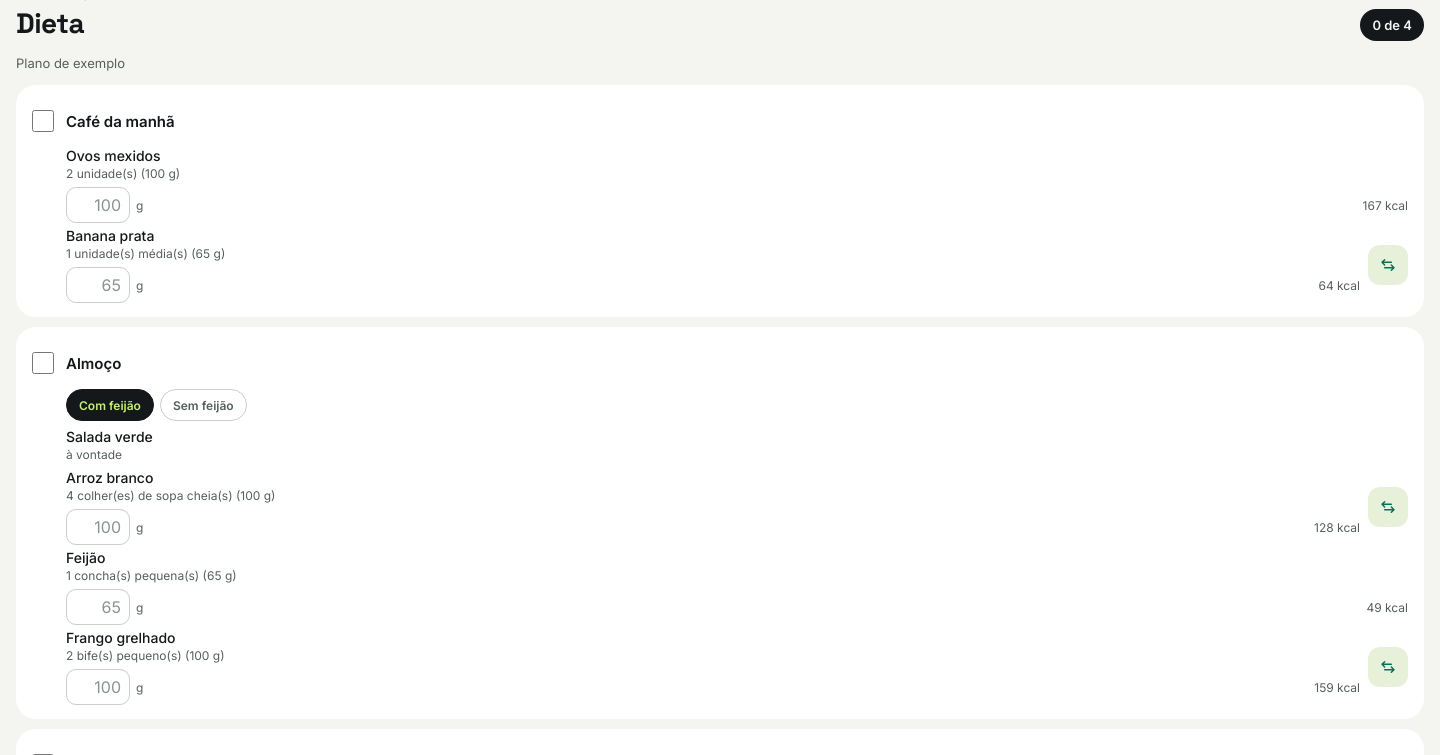
Test: Calorias do dia › soma a quantidade digitada e a refeição fora da dieta
Type "150" into the field named "Quanto comi de ovos mexidos, em g" at (98, 205), box [66,187,130,223]
(page scrolled)
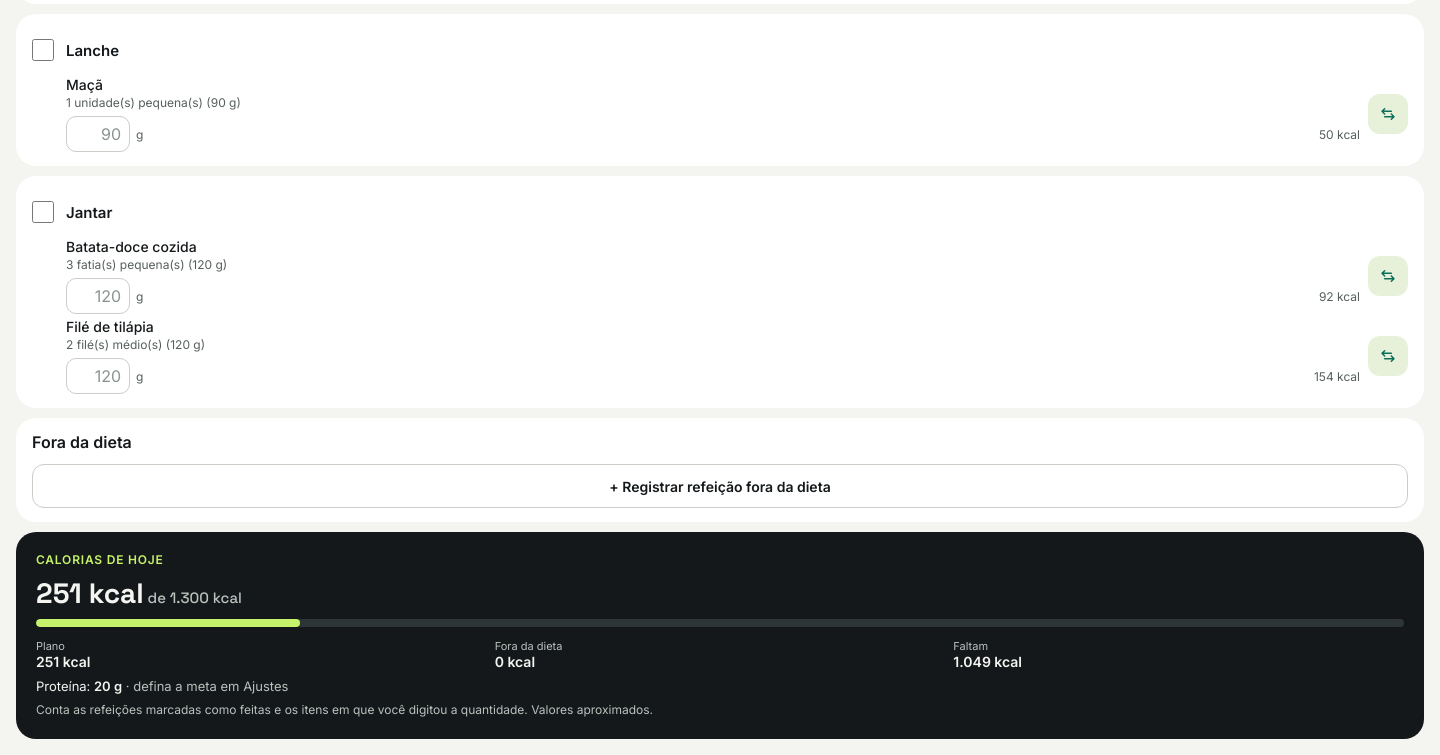
Check: the text "251 kcal" is shown, box [36,575,144,611]
Click the button "+ Registrar refeição fora da dieta" at (720, 486), box [32,464,1408,508]
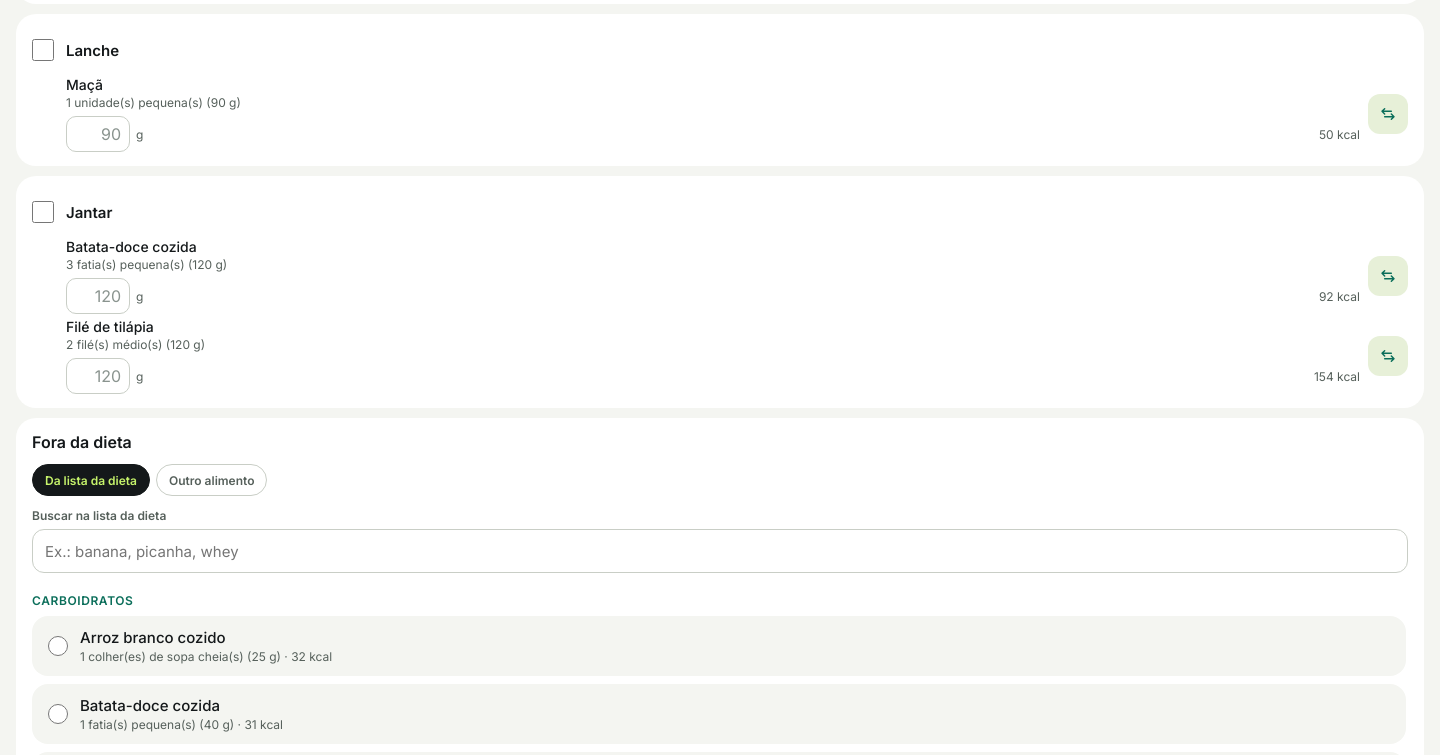
Click the radio button labelled "Outro alimento" at (212, 480), box [156,464,268,496]
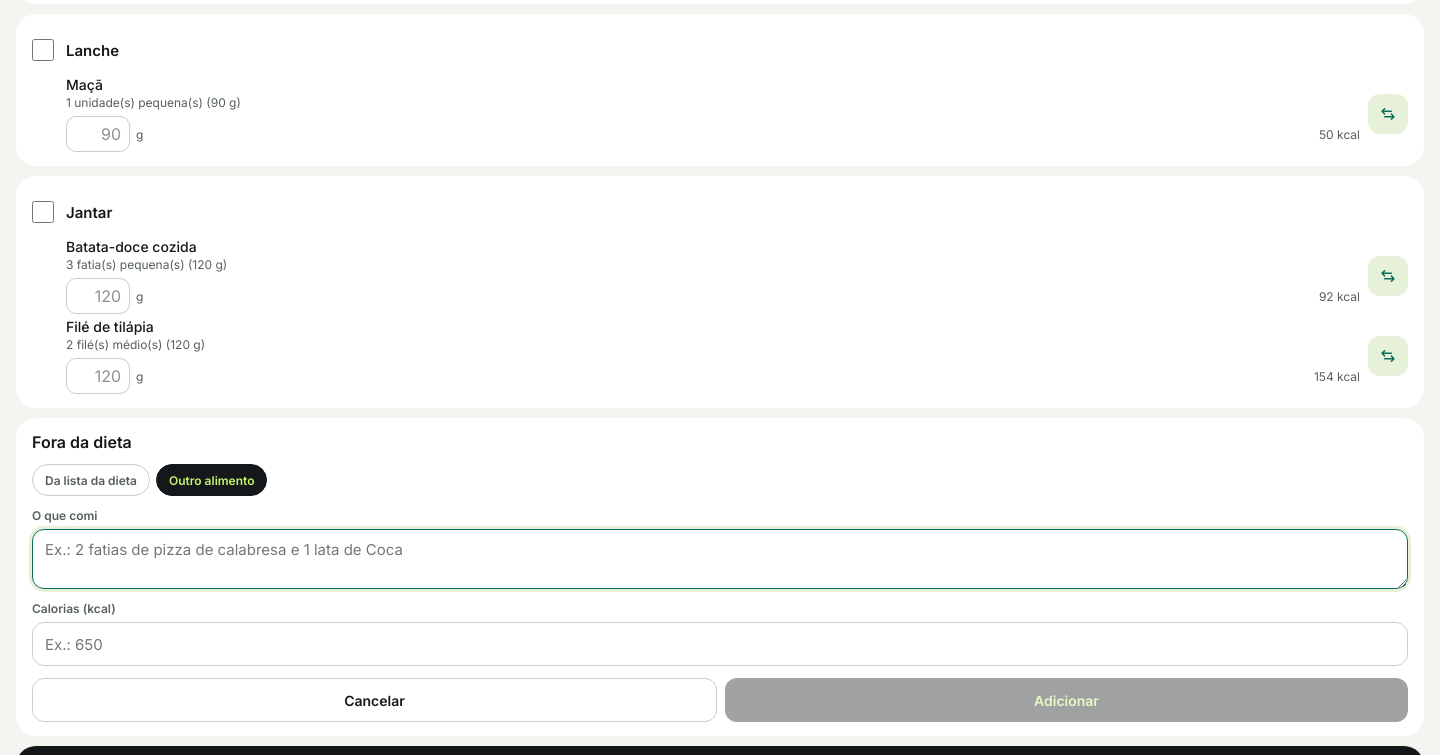
Type "Pastel de queijo" into the text box labelled "O que comi" at (720, 559), box [32,529,1408,589]
Type "300" into the field labelled "Calorias (kcal)" at (720, 644), box [32,622,1408,666]
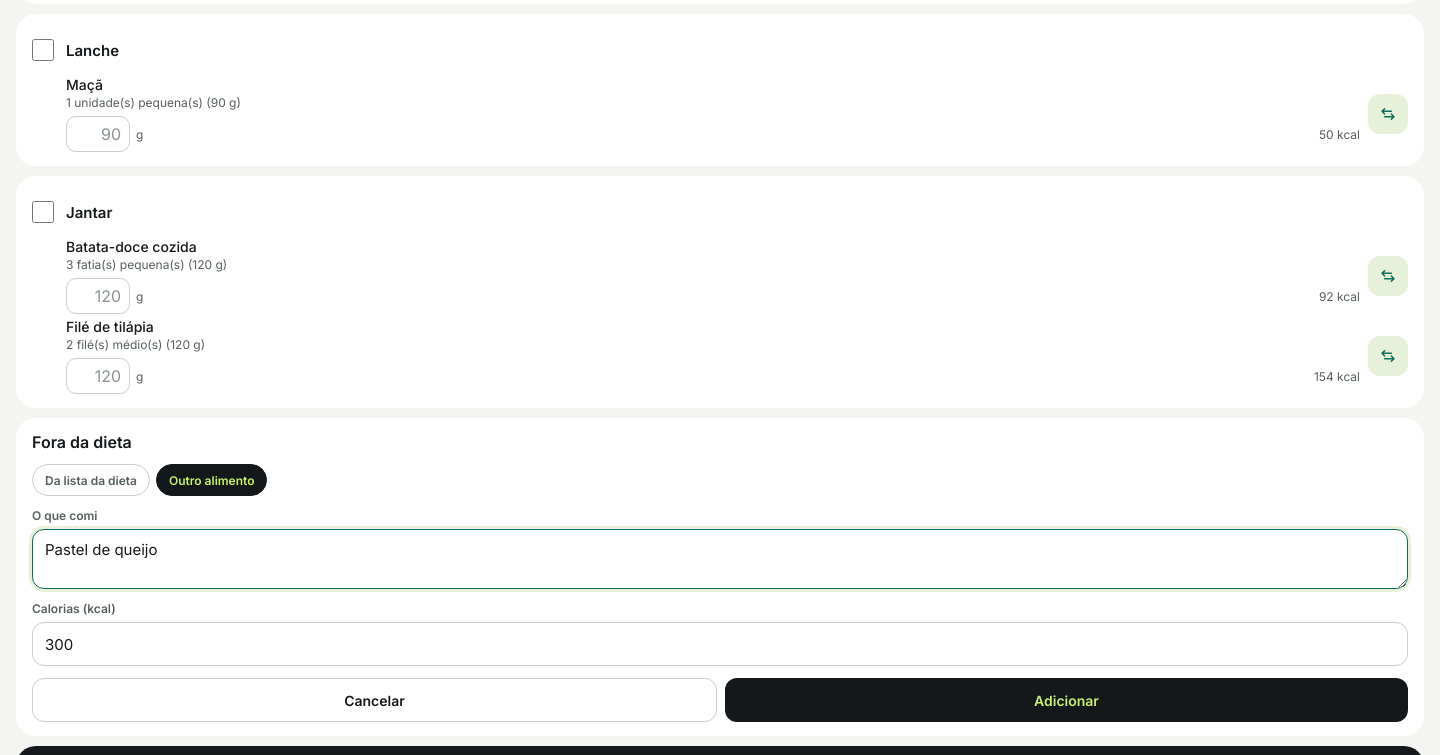
Click the button "Adicionar" at (1066, 700), box [725,678,1408,722]
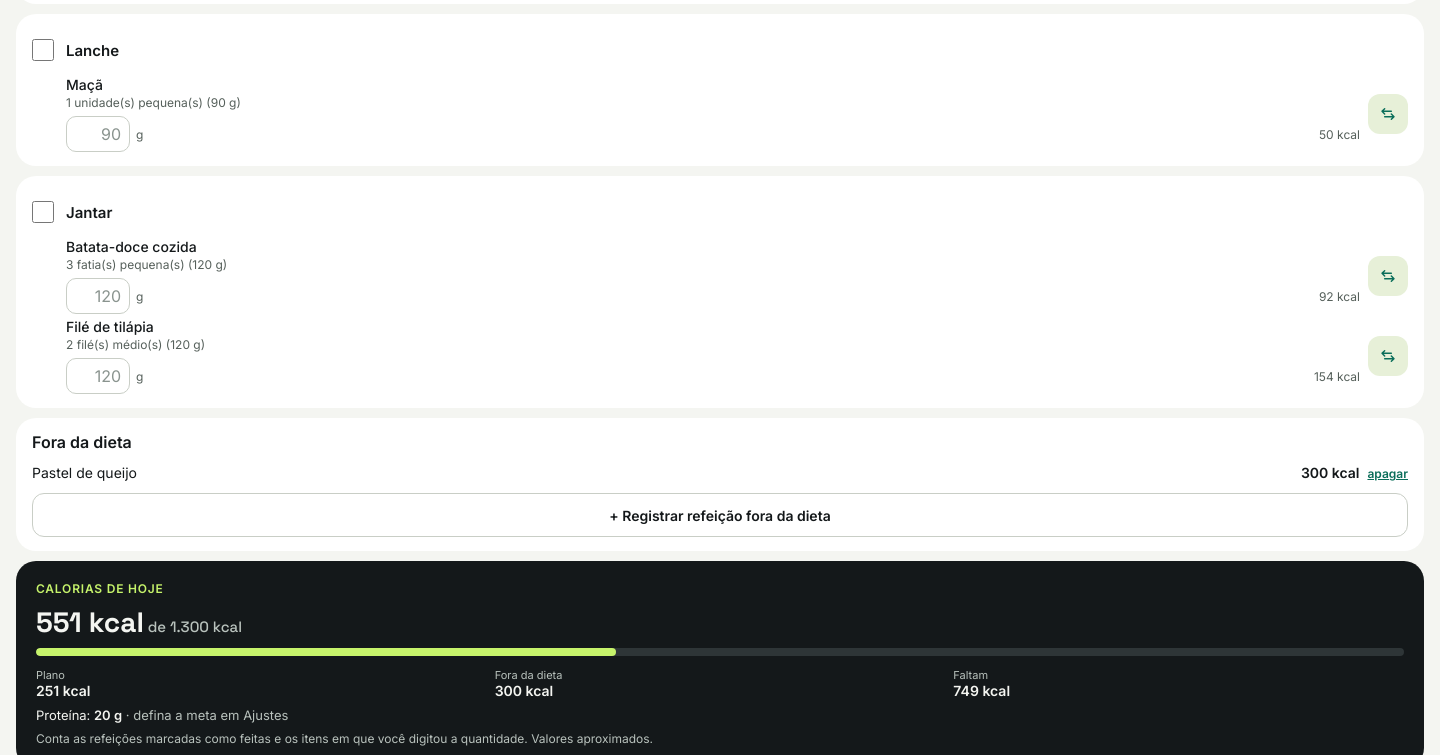
Check: the text "Pastel de queijo" is shown, box [32,464,137,481]
Check: the text "251 kcal" shows "551 kcal", box [36,604,144,640]
Check: the text "749 kcal" is shown, box [953,682,1010,699]
Click the button with aria-label "Apagar Pastel de queijo" at (1388, 474), box [1368,466,1408,481]
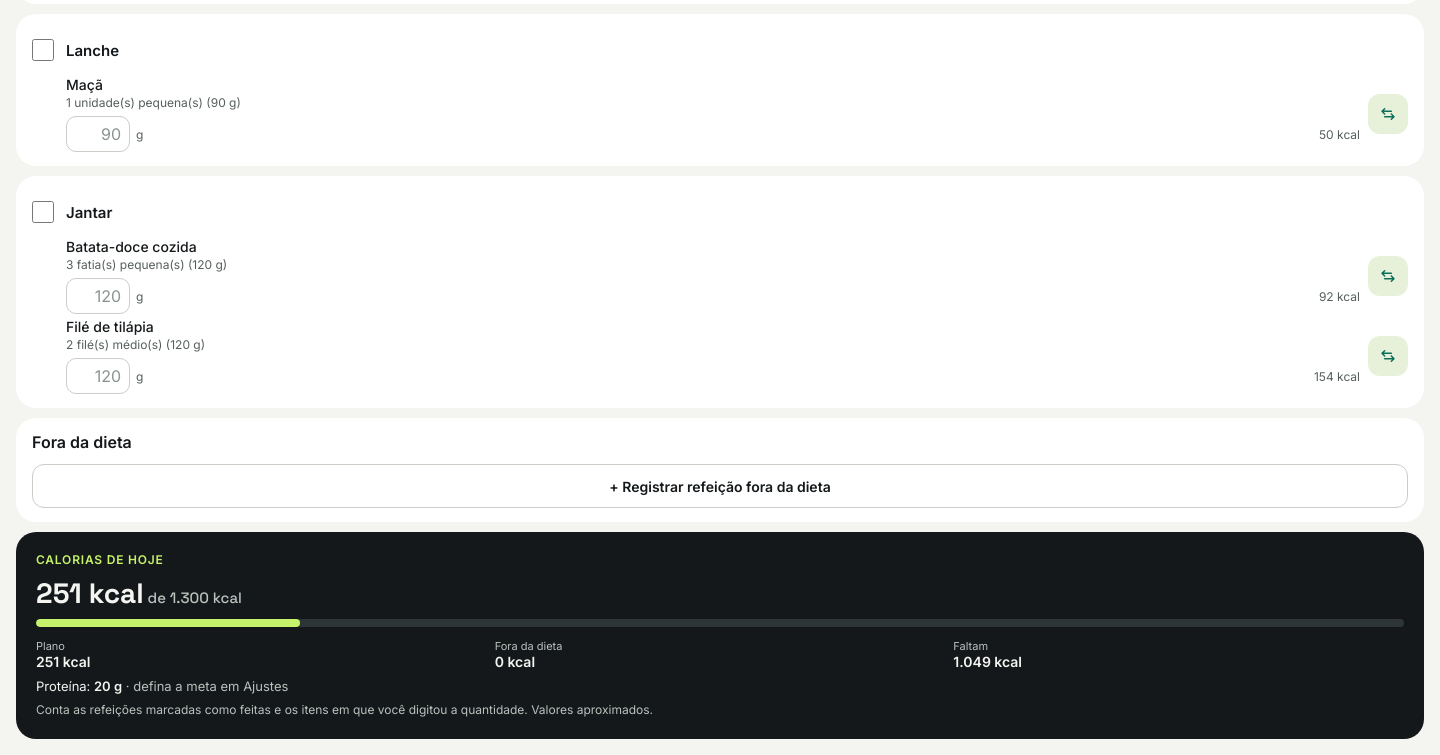
Check: the text "251 kcal" is shown, box [36,575,144,611]
